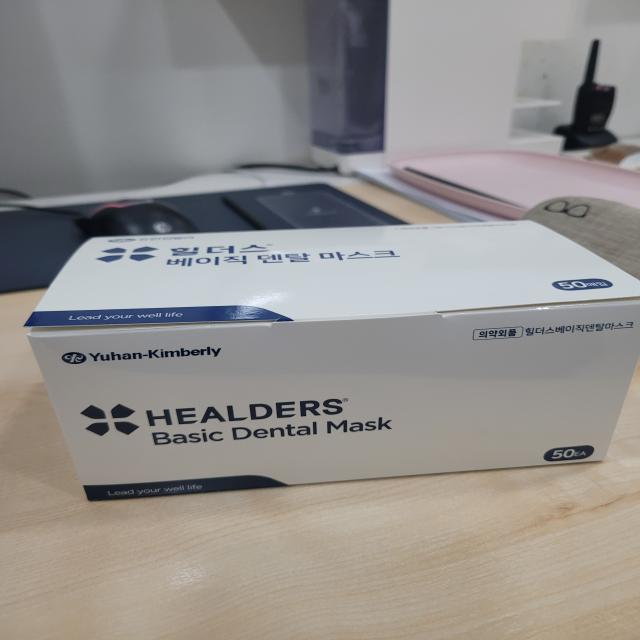mask: (16, 213, 640, 504)
